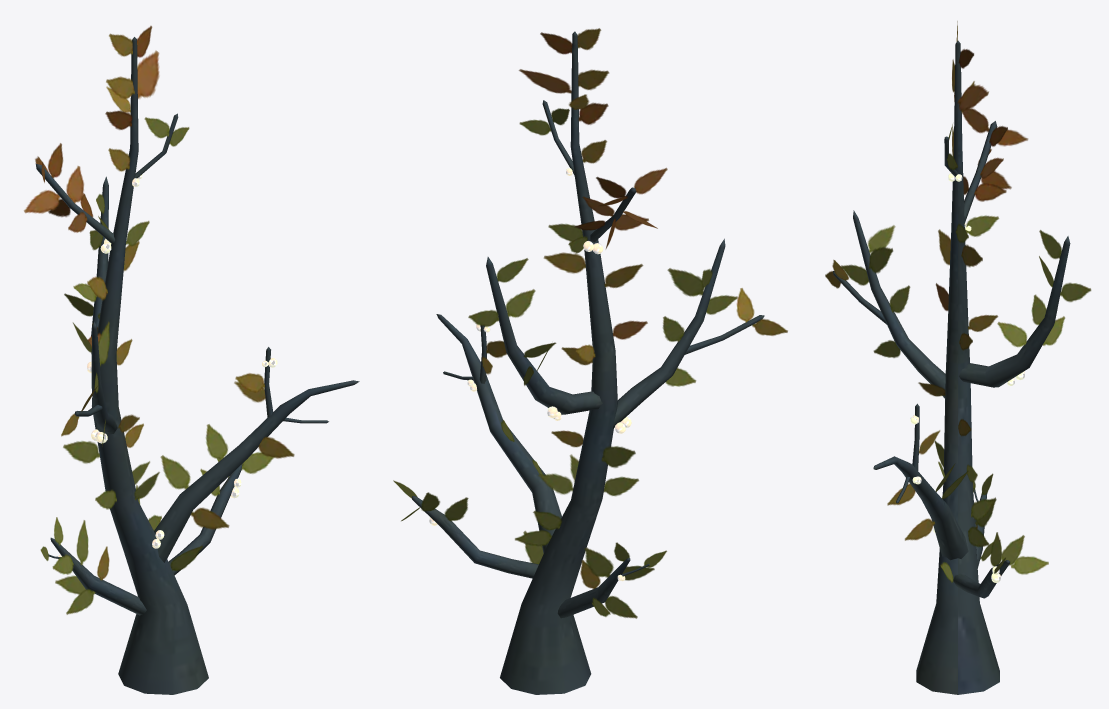
File: Bush03.glb
3 views of the same model, side by side, from view 1: azimuth 30°, elevation 25°; view 2: azimuth 150°, elevation 25°; view 3: azimuth 270°, elevation 25° (orthographic). The views are drawn at different scales.
Parts seen in each view (by area): view 1: Bush03; view 2: Bush03; view 3: Bush03.
Part boxes in pixels (<box>): Bush03: <box>24,26,359,694</box>; Bush03: <box>393,28,787,694</box>; Bush03: <box>825,21,1091,694</box>.
Size of the model in its own units: 1.29 by 2.51 by 0.9727.
Materials: 3 (3 with a texture image).
